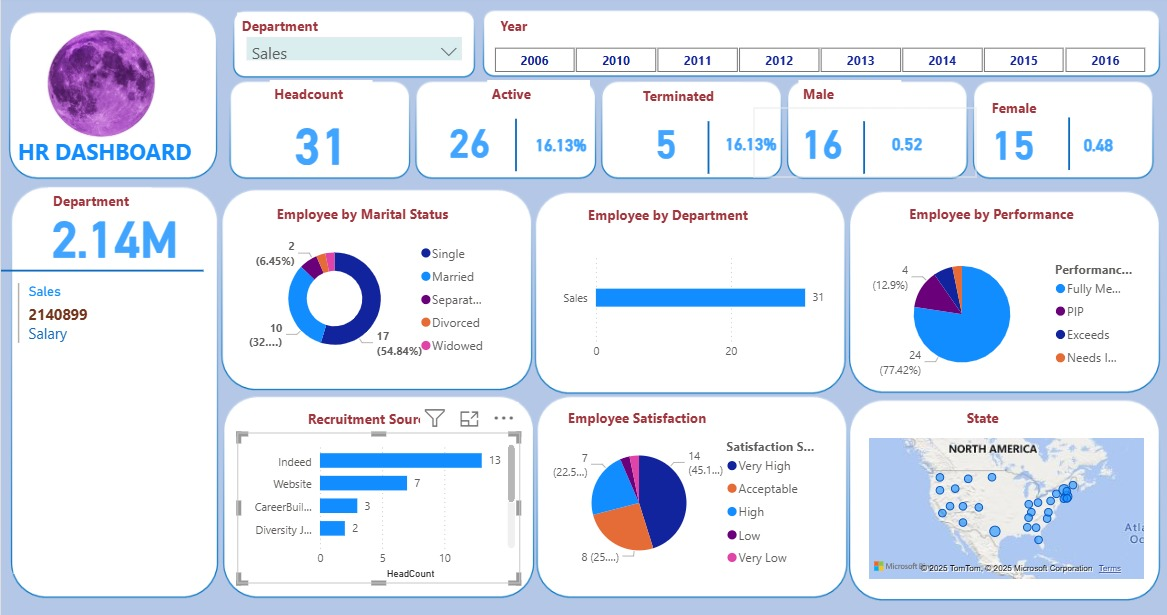

Layout of this report page (visuals, bound fields, positions):
{"tool":"powerbi","page":{"name":"Page 1","canvas":[1280,720],"ordinal":0},"visuals":[{"type":"card","fields":{"Values":["All measures.Terminated"]},"box":[654.5,123.5,150.9,72.7],"z":0,"group":"g2"},{"type":"card","fields":{"Values":["All measures.Male"]},"box":[826.1,123.5,150.9,72.7],"z":0,"group":"g3"},{"type":"card","fields":{"Values":["All measures.Female"]},"box":[1036,124.9,150.9,72.7],"z":0,"group":"g4"},{"type":"textbox","box":[13.7,150.9,222.3,45.3],"z":0},{"type":"textbox","box":[259.3,19.2,112.5,31.6],"z":1000},{"type":"card","fields":{"Values":["All measures.Terminate %"]},"box":[747.8,127.6,150.9,72.7],"z":1000,"group":"g2"},{"type":"card","fields":{"Values":["All measures.Male %"]},"box":[919.4,127.6,150.9,72.7],"z":1000,"group":"g3"},{"type":"card","fields":{"Values":["All measures.Female  %"]},"box":[1129.3,129,150.9,72.7],"z":1000,"group":"g4"},{"type":"slicer","fields":{"Values":["HRData(4).Department"]},"box":[259.3,35.7,256.6,35.7],"z":2000},{"type":"slicer","fields":{"Values":["HRData(4).Hiring Year"]},"box":[516,50.8,764.3,38.4],"z":3000},{"type":"textbox","box":[543.4,19.2,130.4,31.6],"z":4000},{"type":"textbox","box":[295,93.3,112.5,31.6],"z":5000},{"type":"textbox","box":[533.8,93.3,112.5,31.6],"z":6000},{"type":"textbox","box":[52.1,211.3,112.5,31.6],"z":7000},{"type":"textbox","box":[297.8,225,258,32.9],"z":8000},{"type":"textbox","box":[332.1,450.1,170.2,31.6],"z":9000},{"type":"textbox","box":[639.5,226.4,196.2,31.6],"z":10000},{"type":"textbox","box":[617.5,448.7,188,31.6],"z":11000},{"type":"textbox","box":[699.8,96.1,112.5,31.6],"z":12000},{"type":"textbox","box":[875.5,93.3,112.5,31.6],"z":13000},{"type":"textbox","box":[1082.7,108.4,112.5,31.6],"z":14000},{"type":"textbox","box":[992.1,225,237.4,31.6],"z":15000},{"type":"textbox","box":[1055.2,448.7,112.5,31.6],"z":16000},{"type":"card","fields":{"Values":["All measures.HeadCount"]},"box":[275.8,123.5,150.9,72.7],"z":17000},{"type":"shape","box":[767.1,138.6,19.2,57.6],"z":18000},{"type":"group","id":"g1","title":"Group 1","box":[439.1,122.1,251.1,79.6],"z":19000},{"type":"card","fields":{"Values":["All measures.Active"]},"box":[439.1,122.1,150.9,72.7],"z":19000,"group":"g1"},{"type":"group","id":"g2","title":"Group 1","box":[654.5,123.5,244.3,76.8],"z":20000},{"type":"card","fields":{"Values":["All measures.Active %"]},"box":[538.7,128.4,150.9,72.7],"z":20000,"group":"g1"},{"type":"group","id":"g3","title":"Group 1","box":[826.1,123.5,244.3,76.8],"z":21000},{"type":"group","id":"g4","title":"Group 1","box":[1036,124.9,244.3,76.8],"z":22000},{"type":"donutChart","fields":{"Y":["All measures.HeadCount"],"Category":["HRData(4).MaritalStatus"]},"box":[267.6,258,278.6,150.9],"z":23000},{"type":"clusteredBarChart","fields":{"Y":["All measures.HeadCount"],"Category":["HRData(4).Department"]},"box":[609.3,273.1,310.1,135.8],"z":24000},{"type":"pieChart","fields":{"Y":["All measures.HeadCount"],"Category":["HRData(4).PerformanceScore"]},"box":[948.2,273.1,301.9,155.1],"z":25000},{"type":"clusteredBarChart","fields":{"Y":["All measures.HeadCount"],"Category":["HRData(4).RecruitmentSource"]},"box":[259.3,480.3,310.1,166],"z":26000},{"type":"pieChart","fields":{"Y":["All measures.HeadCount"],"Category":["HRData(4).Satisfaction Status"]},"box":[599.7,480.3,301.9,155.1],"z":27000},{"type":"map","fields":{"Size":["All measures.HeadCount"],"Category":["HRData(4).State"]},"box":[948.2,481.6,311.5,164.7],"z":28000},{"type":"card","fields":{"Values":["All measures.Salary"]},"box":[13.7,225,222.3,72.7],"z":29000},{"type":"shape","box":[0,227.8,222.3,149.6],"z":30000},{"type":"multiRowCard","fields":{"Values":["All measures.Salary","HRData(4).Department"]},"box":[13.7,311.5,208.6,323.8],"z":31000},{"type":"image","box":[45.3,32.9,133.1,129],"z":31001},{"type":"shape","box":[555.7,135.8,19.2,57.6],"z":31002},{"type":"shape","box":[933.1,138.6,28.8,57.6],"z":31003},{"type":"shape","box":[1158.2,134.5,28.8,57.6],"z":31004}]}

Visuals, with their boxes on the page's 1280x720 design canvas (x1, y1, x2, y2). These are canvas units, not pixel positions in the 1167x615 screenshot, which may show the page scaled, cropped or inside an application window:
card - All measures.Terminated: x1=654 y1=124 x2=805 y2=196
card - All measures.Male: x1=826 y1=124 x2=977 y2=196
card - All measures.Female: x1=1036 y1=125 x2=1187 y2=198
textbox: x1=14 y1=151 x2=236 y2=196
textbox: x1=259 y1=19 x2=372 y2=51
card - All measures.Terminate %: x1=748 y1=128 x2=899 y2=200
card - All measures.Male %: x1=919 y1=128 x2=1070 y2=200
card - All measures.Female  %: x1=1129 y1=129 x2=1280 y2=202
slicer - HRData(4).Department: x1=259 y1=36 x2=516 y2=71
slicer - HRData(4).Hiring Year: x1=516 y1=51 x2=1280 y2=89
textbox: x1=543 y1=19 x2=674 y2=51
textbox: x1=295 y1=93 x2=408 y2=125
textbox: x1=534 y1=93 x2=646 y2=125
textbox: x1=52 y1=211 x2=165 y2=243
textbox: x1=298 y1=225 x2=556 y2=258
textbox: x1=332 y1=450 x2=502 y2=482
textbox: x1=640 y1=226 x2=836 y2=258
textbox: x1=618 y1=449 x2=806 y2=480
textbox: x1=700 y1=96 x2=812 y2=128
textbox: x1=876 y1=93 x2=988 y2=125
textbox: x1=1083 y1=108 x2=1195 y2=140
textbox: x1=992 y1=225 x2=1230 y2=257
textbox: x1=1055 y1=449 x2=1168 y2=480
card - All measures.HeadCount: x1=276 y1=124 x2=427 y2=196
shape: x1=767 y1=139 x2=786 y2=196
"Group 1" group: x1=439 y1=122 x2=690 y2=202
card - All measures.Active: x1=439 y1=122 x2=590 y2=195
"Group 1" group: x1=654 y1=124 x2=899 y2=200
card - All measures.Active %: x1=539 y1=128 x2=690 y2=201
"Group 1" group: x1=826 y1=124 x2=1070 y2=200
"Group 1" group: x1=1036 y1=125 x2=1280 y2=202
donutChart - All measures.HeadCount x HRData(4).MaritalStatus: x1=268 y1=258 x2=546 y2=409
clusteredBarChart - All measures.HeadCount x HRData(4).Department: x1=609 y1=273 x2=919 y2=409
pieChart - All measures.HeadCount x HRData(4).PerformanceScore: x1=948 y1=273 x2=1250 y2=428
clusteredBarChart - All measures.HeadCount x HRData(4).RecruitmentSource: x1=259 y1=480 x2=569 y2=646
pieChart - All measures.HeadCount x HRData(4).Satisfaction Status: x1=600 y1=480 x2=902 y2=635
map - All measures.HeadCount x HRData(4).State: x1=948 y1=482 x2=1260 y2=646
card - All measures.Salary: x1=14 y1=225 x2=236 y2=298
shape: x1=0 y1=228 x2=222 y2=377
multiRowCard - All measures.Salary x HRData(4).Department: x1=14 y1=312 x2=222 y2=635
image: x1=45 y1=33 x2=178 y2=162
shape: x1=556 y1=136 x2=575 y2=193
shape: x1=933 y1=139 x2=962 y2=196
shape: x1=1158 y1=134 x2=1187 y2=192
